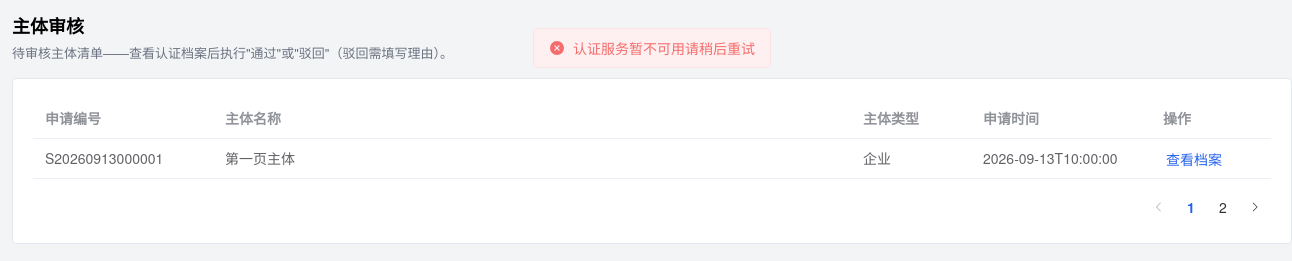
Test: 审核工作台清单页（WBS-3.1.5） › 翻页按新页码重新拉取并以返回数据替换渲染（WBS-3.1.6 T3 分页参数透传）
Click the button with class "btn-next" at (1255, 207), box [1239,191,1271,223]
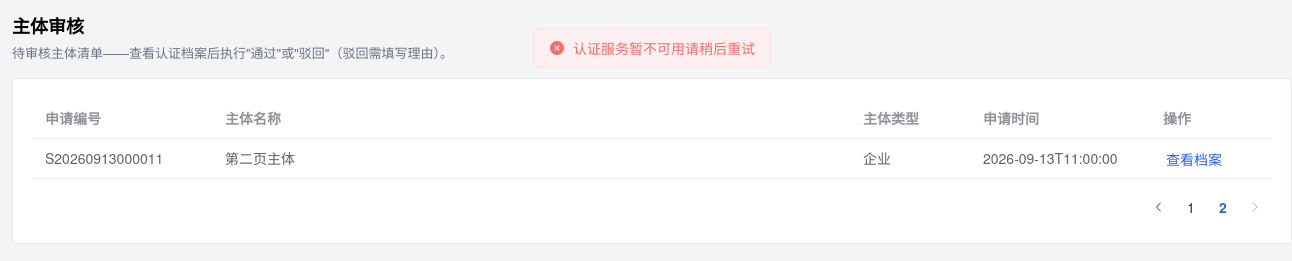
Expected: the text "第二页主体" is shown, [225,148,295,168]
Expected: the text "第一页主体" is gone
